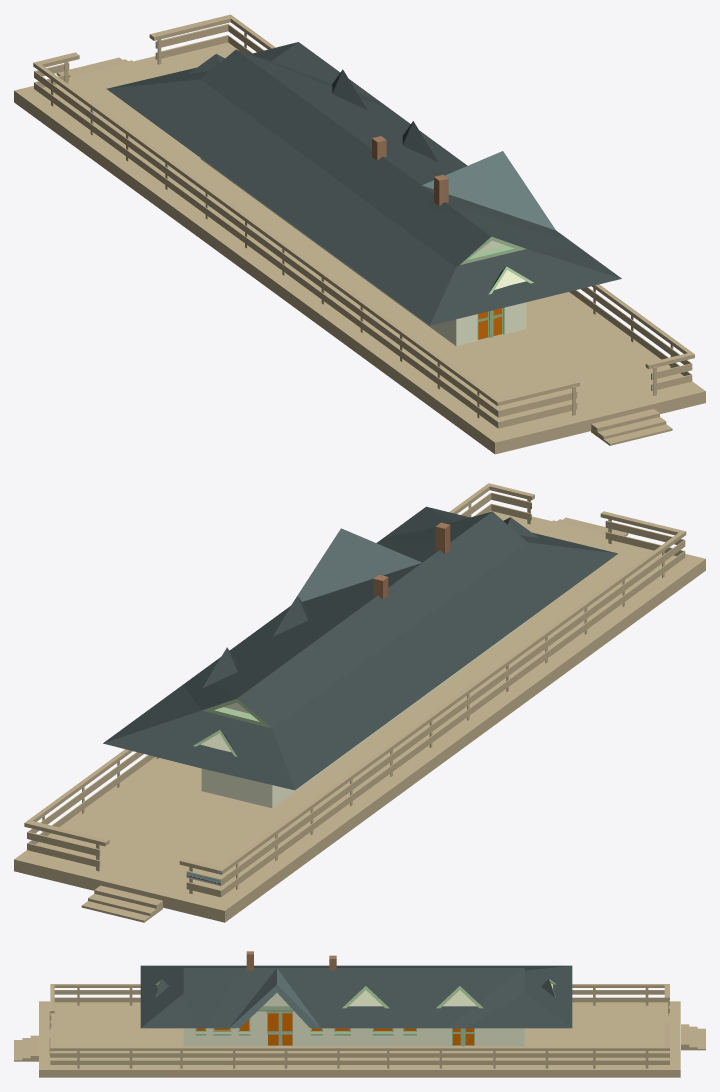
Rendered from Katy_Dept_St.Charles.fbx.
3 views of the same model, one above another, from view 1: azimuth 30°, elevation 25°; view 2: azimuth 150°, elevation 25°; view 3: azimuth 270°, elevation 25° (orthographic). The views are drawn at different scales.
Parts seen in each view (by area): view 1: Plane.032; view 2: Plane.032; view 3: Plane.032.
Boxes of the visible parts, left/top/right/bottom form: Plane.032: left=14, top=14, right=705, bottom=454; Plane.032: left=14, top=483, right=705, bottom=922; Plane.032: left=14, top=951, right=705, bottom=1077.
Bounding box in the file's own units: 3242 × 2006 × 13809.
